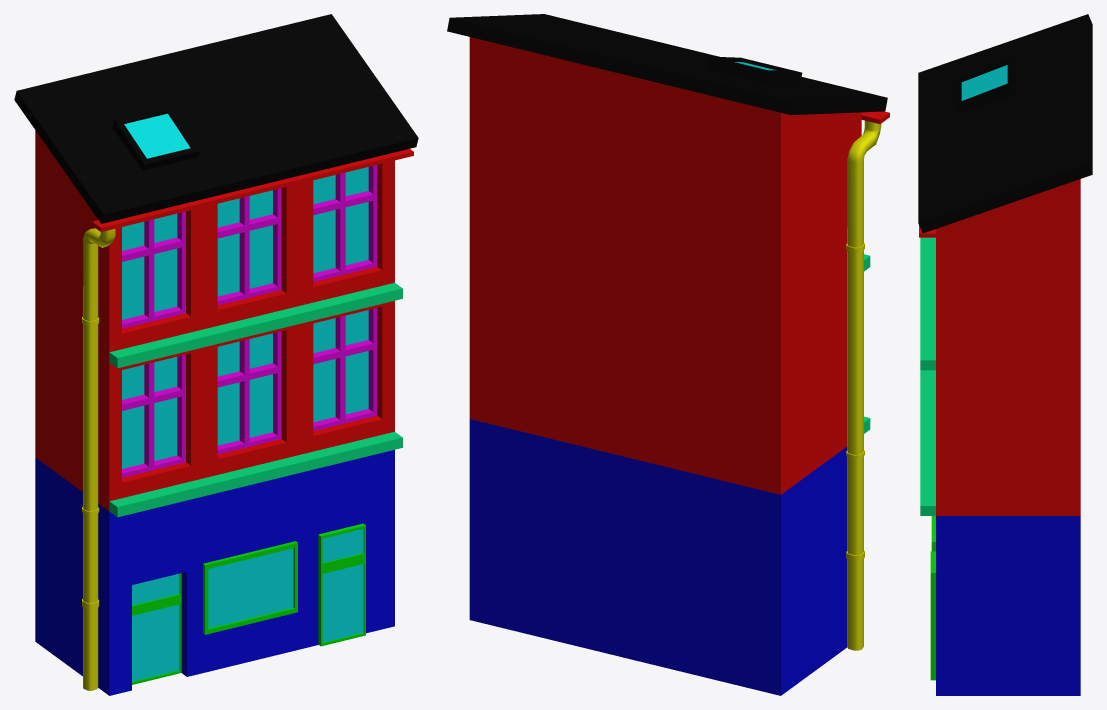
The model's file is Building_A.fbx.
3 views of the same model, side by side, from view 1: azimuth 30°, elevation 25°; view 2: azimuth 150°, elevation 25°; view 3: azimuth 270°, elevation 25° (orthographic). The views are drawn at different scales.
Visible parts, largest first — view 1: Building_A; view 2: Building_A; view 3: Building_A.
Part boxes in pixels (x1,y1,x2,y2): Building_A: [14, 14, 418, 695]; Building_A: [447, 14, 889, 695]; Building_A: [918, 14, 1092, 695].
Bounding box in the file's own units: 648 × 1077 × 316.
